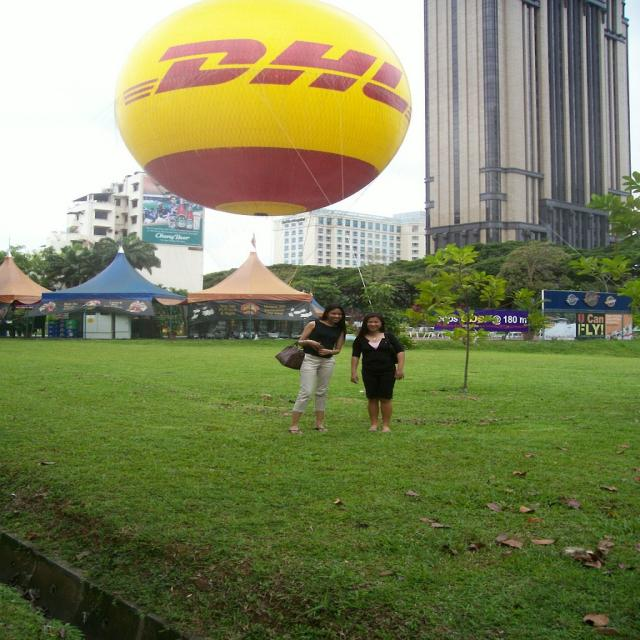dhl: (119, 33, 410, 119)
